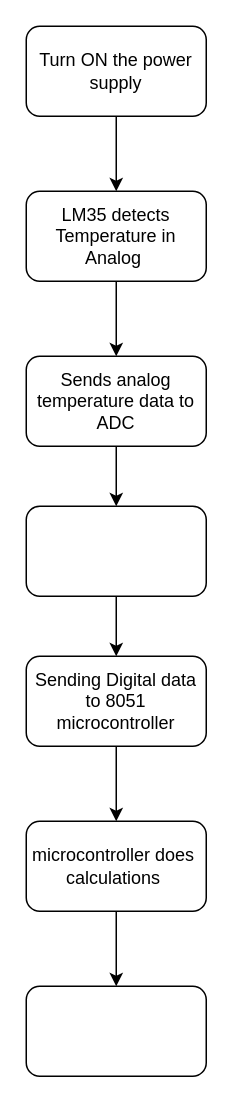
Image size: 233x1103. Some labels were removed from this diagram. Each missing label, with the box of its shape:
ADC0804 converts analog data to digital: (25, 505, 206, 596)
Displlay on the LCD: (25, 985, 206, 1076)
